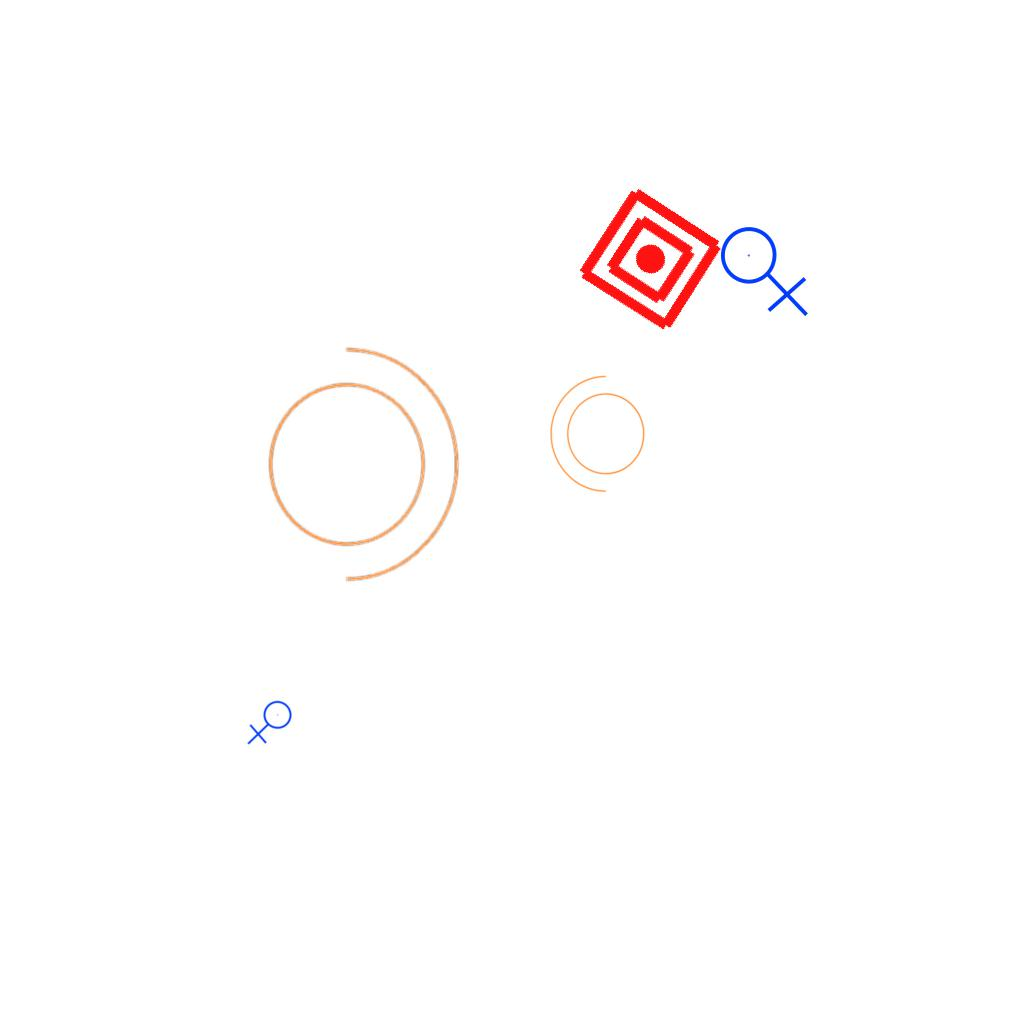Elektroanschluss_allgemein_230V_Geraeteanschlussdose_230V: (719, 218, 813, 317), (247, 700, 296, 747)
NAM-Nichtautomatischer_Melder: (572, 181, 729, 338)
Scheinwerfer_fuer_Alarmbeleuchtung: (244, 326, 469, 590), (545, 371, 657, 503)
